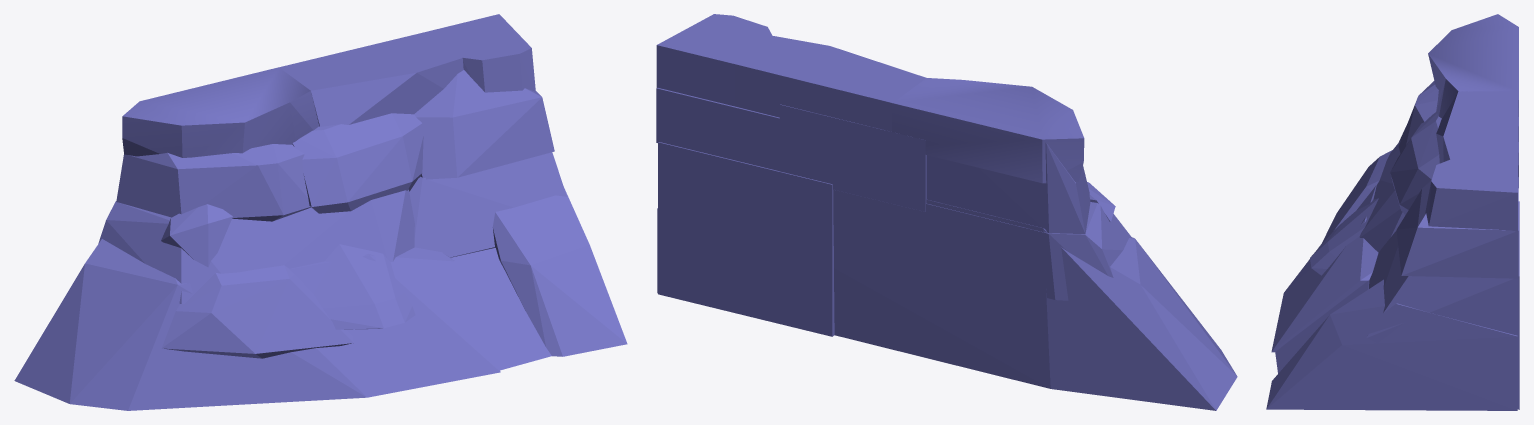
Rendered from Cliff_Corner_03_Slope_Collider_01.FBX.
3 views of the same model, side by side, from view 1: azimuth 30°, elevation 25°; view 2: azimuth 150°, elevation 25°; view 3: azimuth 270°, elevation 25° (orthographic). The views are drawn at different scales.
Visible parts, largest first — view 1: COLLIDER5, COLLIDER2, COLLIDER8, COLLIDER3, COLLIDER12, COLLIDER7, COLLIDER1, COLLIDER11, COLLIDER10, COLLIDER14, COLLIDER13, COLLIDER9 (+2 smaller); view 2: COLLIDER5, COLLIDER14, COLLIDER2, COLLIDER3, COLLIDER1, COLLIDER10, COLLIDER7, COLLIDER4, COLLIDER11; view 3: COLLIDER8, COLLIDER14, COLLIDER11, COLLIDER3, COLLIDER4, COLLIDER1, COLLIDER5, COLLIDER10, COLLIDER2, COLLIDER13, COLLIDER12, COLLIDER9 (+1 smaller).
Boxes of the visible parts, box(x1,y1,x2,y2) form: COLLIDER5: box(14, 239, 500, 410); COLLIDER2: box(98, 189, 414, 303); COLLIDER8: box(450, 188, 627, 356); COLLIDER3: box(122, 67, 319, 157); COLLIDER12: box(161, 265, 353, 358); COLLIDER7: box(116, 144, 310, 221); COLLIDER1: box(279, 32, 463, 126); COLLIDER11: box(414, 70, 554, 179); COLLIDER10: box(292, 113, 423, 213); COLLIDER14: box(409, 152, 566, 257); COLLIDER13: box(313, 244, 415, 329); COLLIDER9: box(450, 248, 551, 370); COLLIDER5: box(834, 199, 1237, 410); COLLIDER14: box(658, 142, 834, 336); COLLIDER2: box(833, 189, 1131, 300); COLLIDER3: box(892, 78, 1084, 183); COLLIDER1: box(735, 36, 926, 131); COLLIDER10: box(780, 104, 926, 211); COLLIDER7: box(926, 143, 1090, 233); COLLIDER4: box(656, 14, 772, 106); COLLIDER11: box(656, 87, 779, 171); COLLIDER8: box(1266, 279, 1517, 410); COLLIDER14: box(1366, 201, 1519, 409); COLLIDER11: box(1396, 177, 1518, 278); COLLIDER3: box(1428, 14, 1518, 118); COLLIDER4: box(1425, 159, 1517, 231); COLLIDER1: box(1436, 91, 1518, 176); COLLIDER5: box(1271, 185, 1378, 352); COLLIDER10: box(1390, 112, 1518, 215); COLLIDER2: box(1359, 140, 1404, 252); COLLIDER13: box(1310, 198, 1378, 275); COLLIDER12: box(1321, 150, 1392, 244); COLLIDER9: box(1275, 280, 1368, 373).
Size of the model in its own units: 1509 by 664 by 697.
